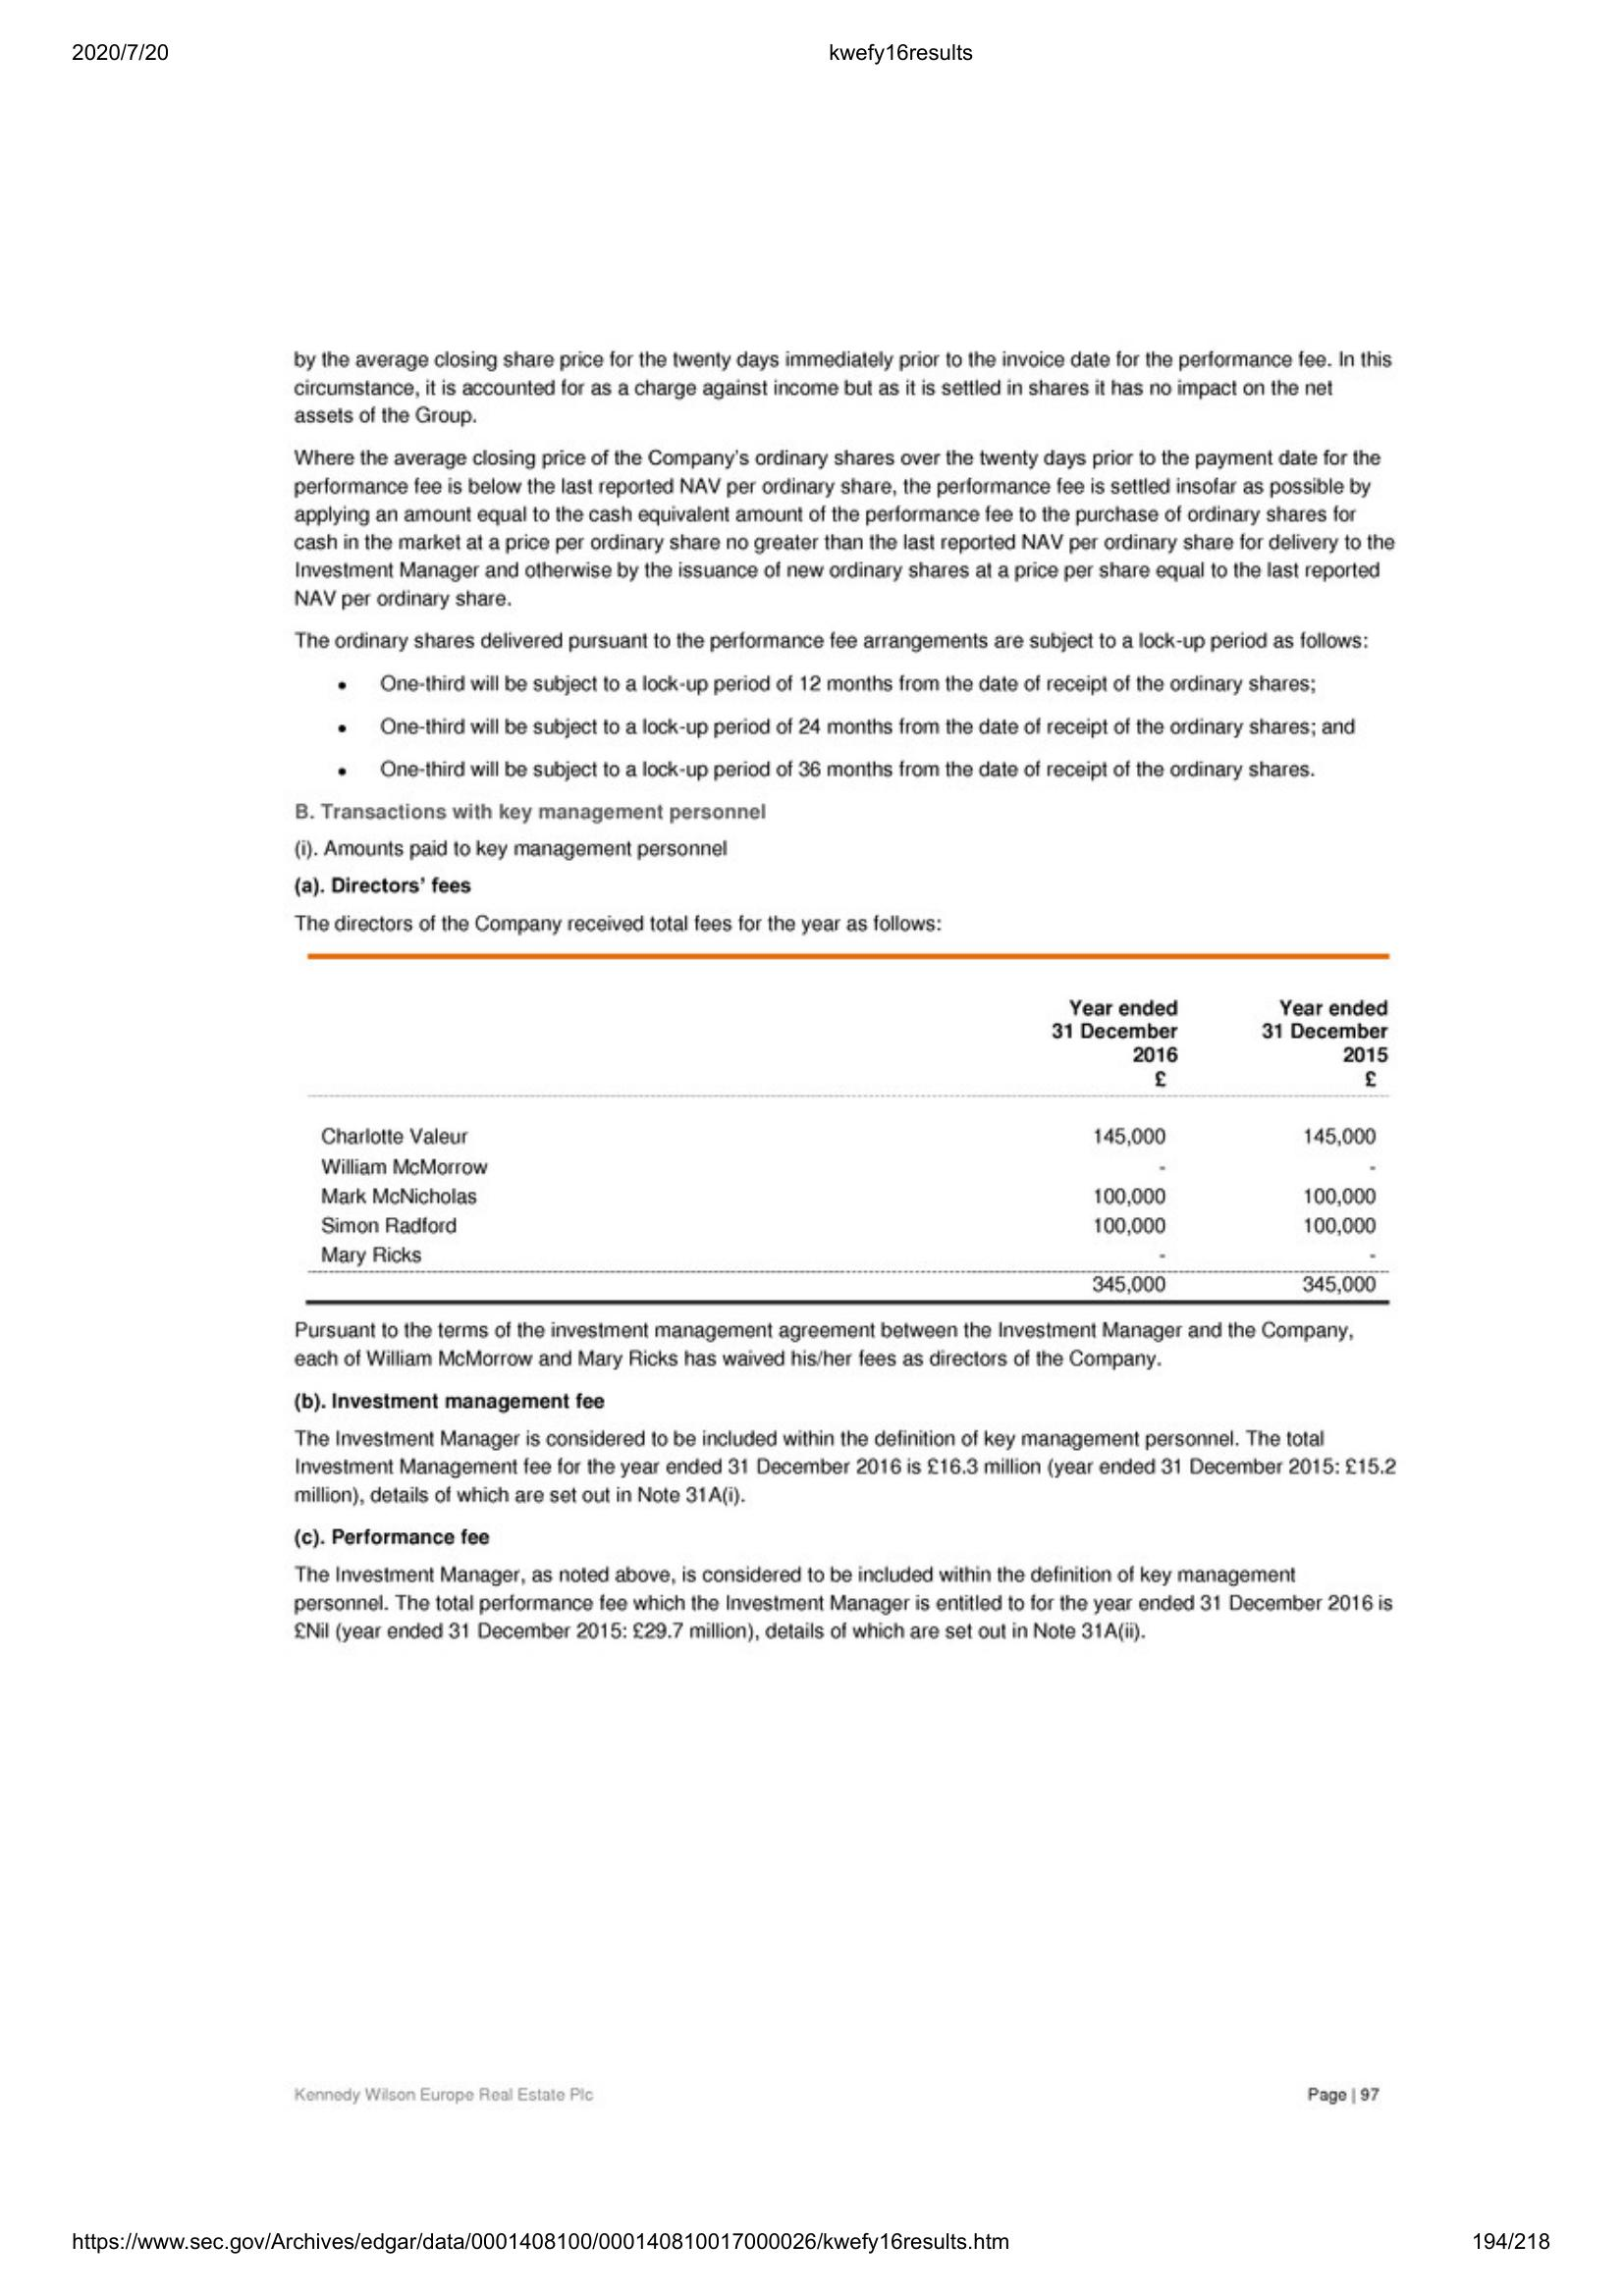table: (299, 936, 1400, 1313)
